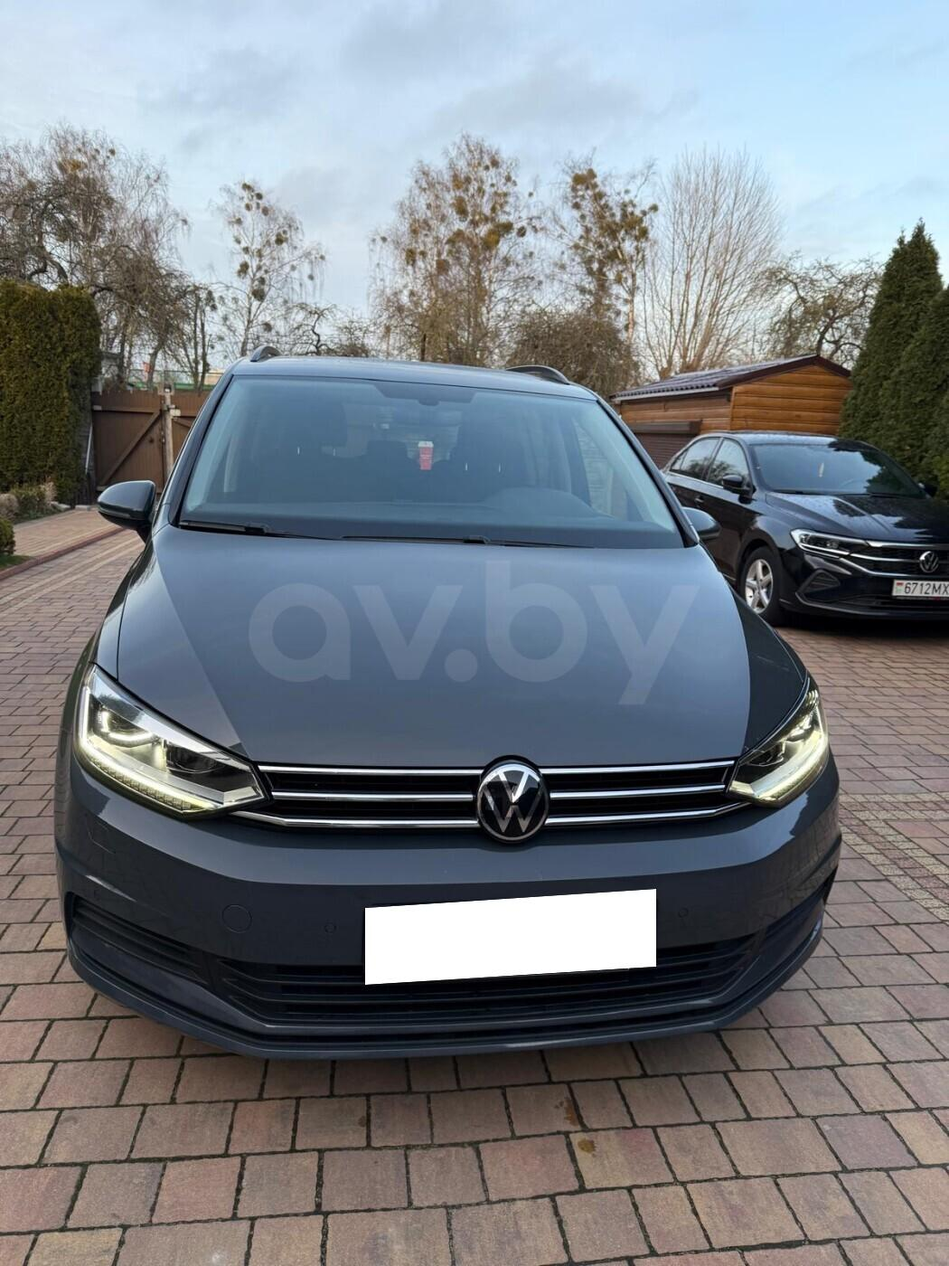Touran_2015: (45, 351, 846, 1063)
